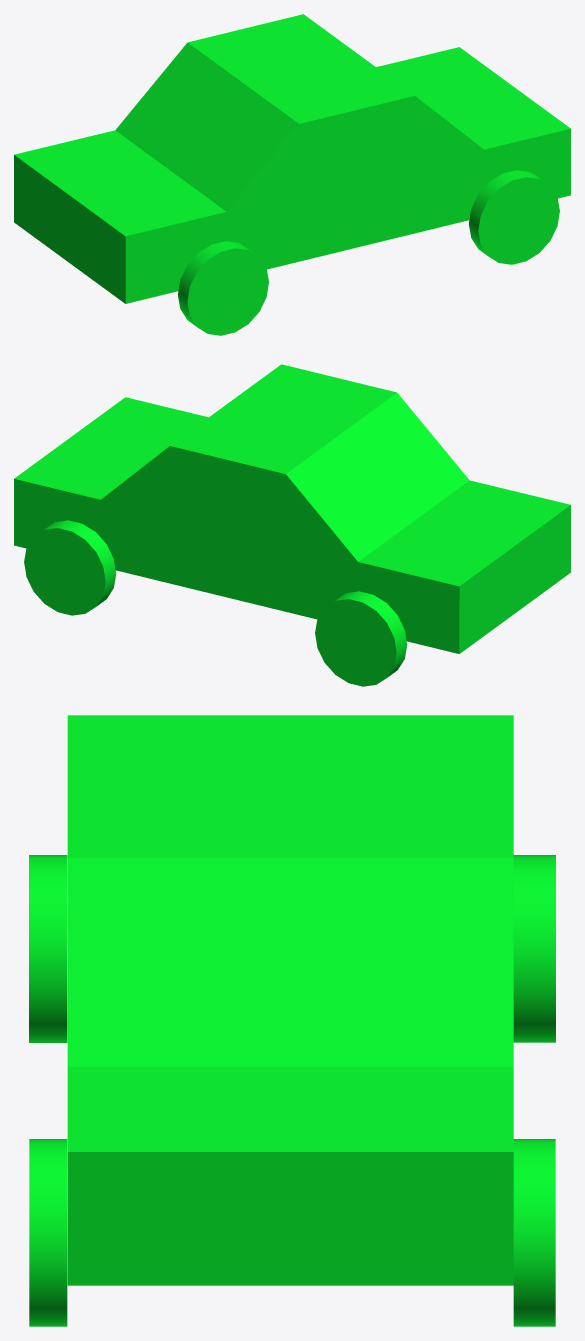
Rendered from Car.FBX.
The picture shows the model from 3 angles, top to bottom: view 1: azimuth 30°, elevation 25°; view 2: azimuth 150°, elevation 25°; view 3: azimuth 270°, elevation 25°; orthographic projection. The views are drawn at different scales.
Parts seen in each view (by area): view 1: Box001, Cylinder004, Cylinder003; view 2: Box001, Cylinder002, Cylinder001; view 3: Box001, Cylinder001, Cylinder002, Cylinder003, Cylinder004.
Part boxes in pixels (x1,y1,x2,y2): Box001: (14,14,570,303); Cylinder004: (178,241,268,335); Cylinder003: (469,170,559,264); Box001: (14,364,570,653); Cylinder002: (315,591,407,686); Cylinder001: (24,520,116,615); Box001: (67,715,513,1285); Cylinder001: (513,1139,555,1326); Cylinder002: (513,855,555,1042); Cylinder003: (29,1139,67,1326); Cylinder004: (29,855,67,1042).
Bounding box in the file's own units: 60.51 × 23.8 × 30.98.
